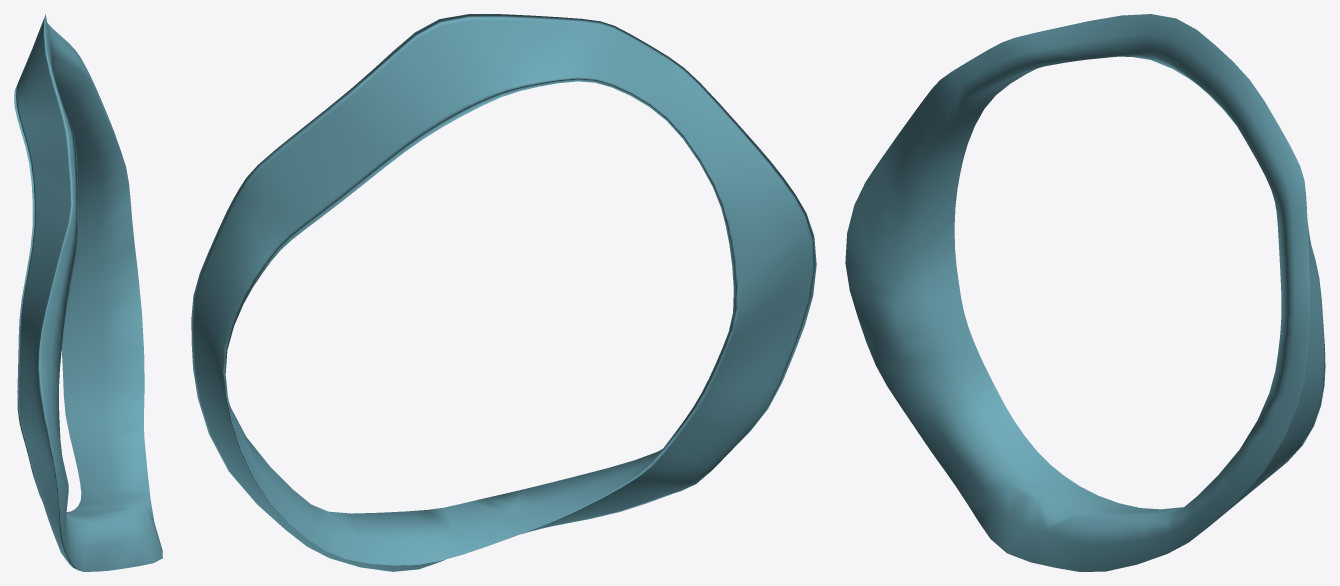
3 views of the same model, side by side, from view 1: azimuth 30°, elevation 25°; view 2: azimuth 150°, elevation 25°; view 3: azimuth 270°, elevation 25° (orthographic). The views are drawn at different scales.
Parts seen in each view (by area): view 1: 右侧髋臼唇; view 2: 右侧髋臼唇; view 3: 右侧髋臼唇.
Boxes of the visible parts, x1,y1,x2,y2 form: 右侧髋臼唇: [14, 14, 162, 571]; 右侧髋臼唇: [191, 14, 816, 571]; 右侧髋臼唇: [845, 14, 1325, 571].
Bounding box in the file's own units: 0.052 × 0.0844 × 0.0705.
